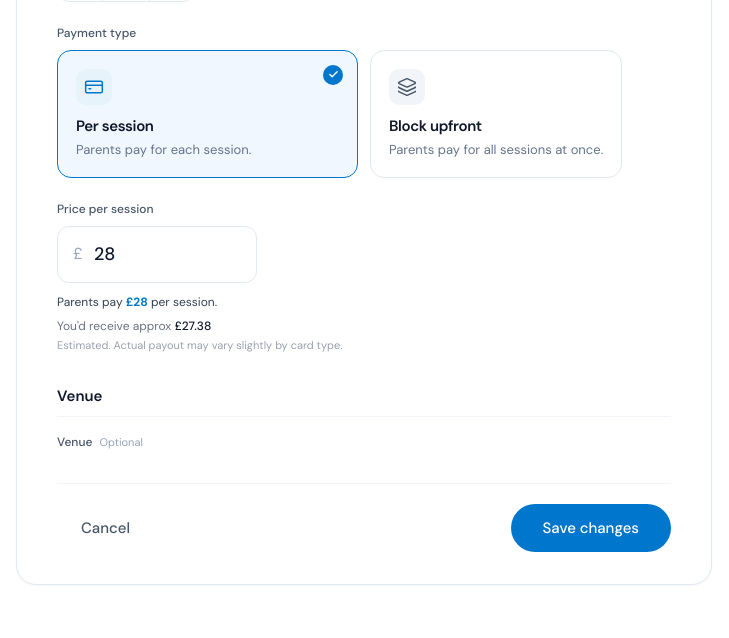
Test: EditProgramme — 409 conflict handling (UX-19) › non-409 failures use the plain save error, not the conflict banner
(page scrolled)
What coordinates should you click on to do the following:
click the button "Save changes"
I would click on:
 (591, 528)
Its box is x1=510 y1=504 x2=671 y2=552.
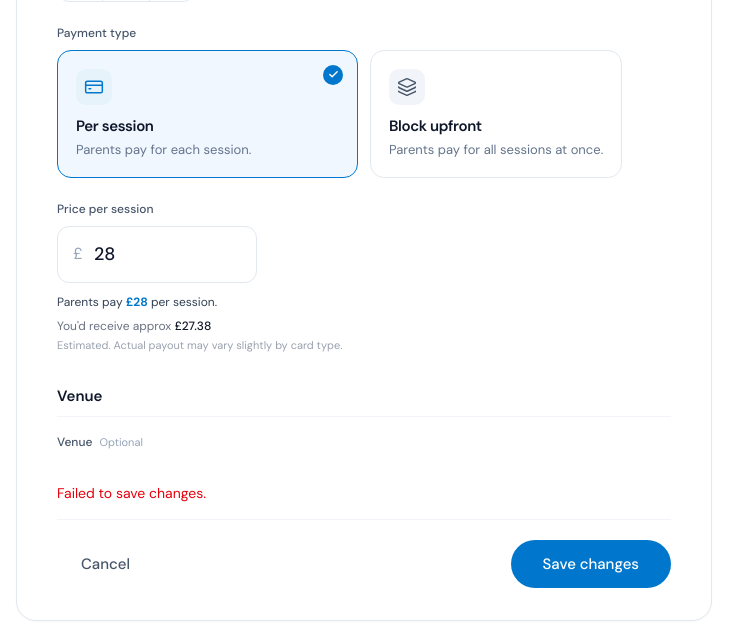
Expected: the button "Save changes" is enabled, x1=510 y1=540 x2=671 y2=588
Expected: the text "Failed to save changes." is shown, x1=57 y1=484 x2=206 y2=502
